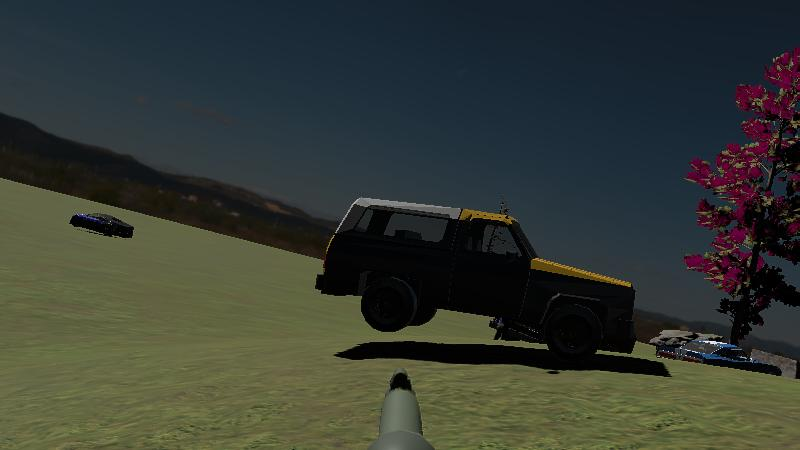car: (310, 197, 640, 361), (652, 337, 786, 381), (68, 209, 135, 240)
